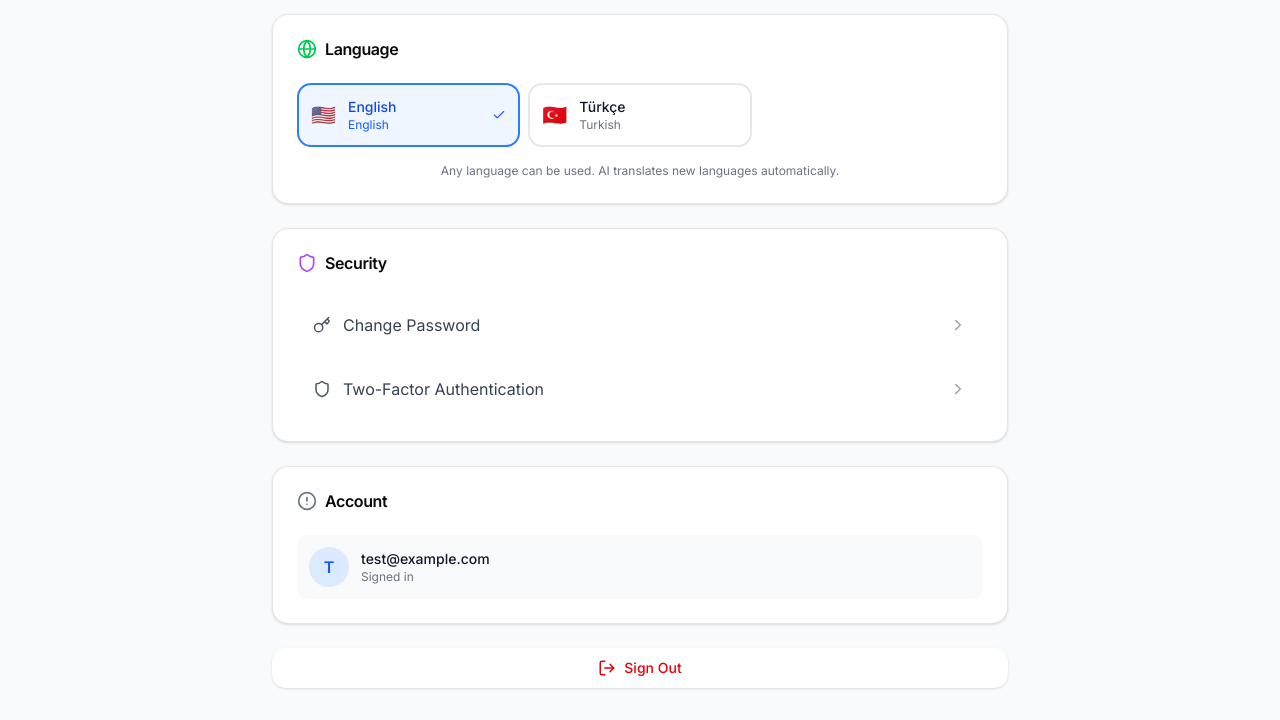
Test: Settings › Sign Out with Confirmation Dialog › should show confirmation dialog when Sign Out is clicked
This screenshot has width=1280, height=720.
(page scrolled)
What coordinates should you click on to do the following:
click the button "Sign Out"
I would click on:
 (640, 668)
Its box is [272,648,1008,688].
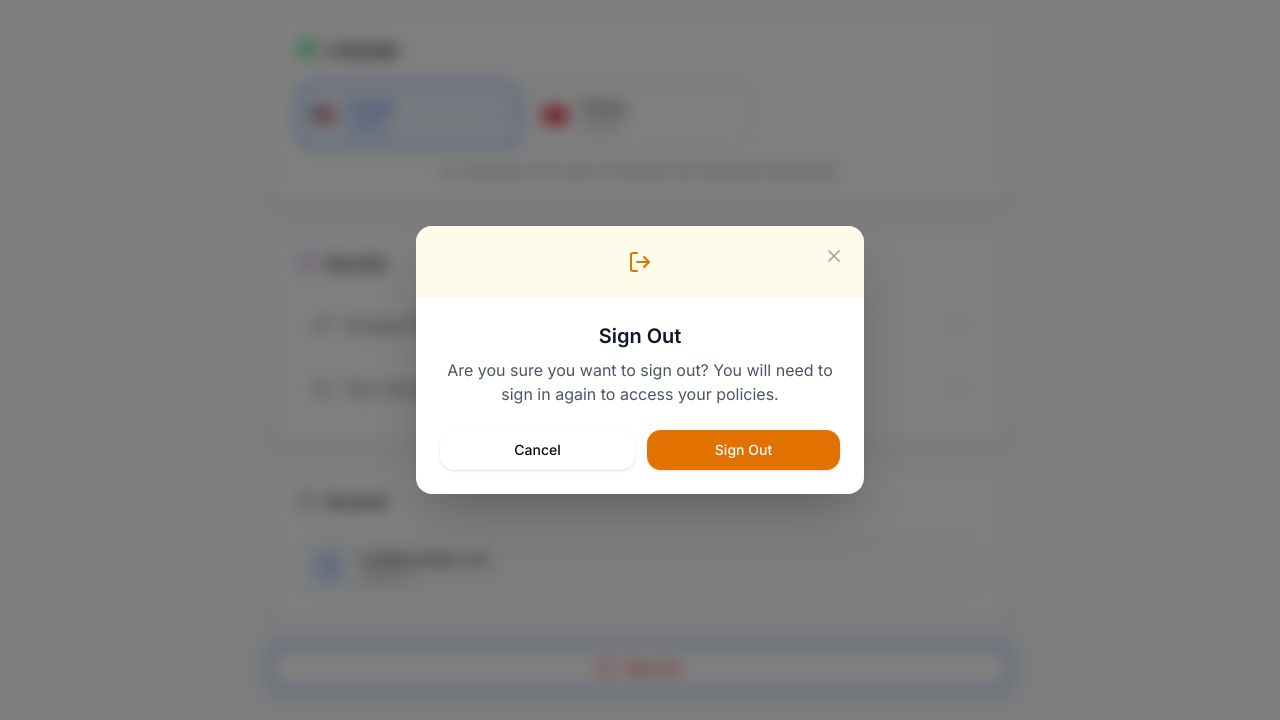
Check: the dialog is shown
Check: the text "Are you sure you want to sign out" is shown, box [447,360,833,404]
